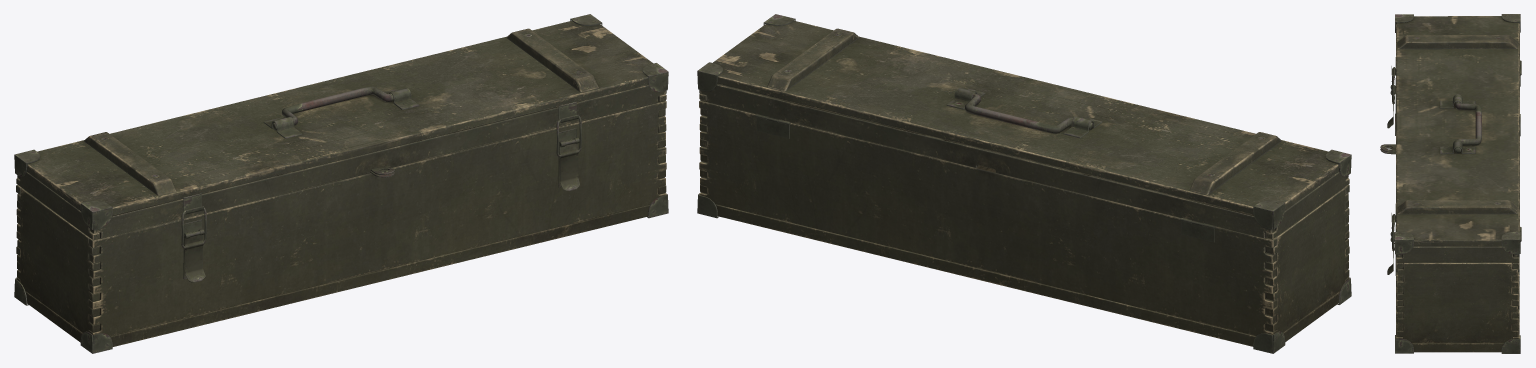
The model's file is military_crate.glb.
3 renders of one model, left to right at view 1: azimuth 30°, elevation 25°; view 2: azimuth 150°, elevation 25°; view 3: azimuth 270°, elevation 25°, orthographic. The views are drawn at different scales.
Parts seen in each view (by area): view 1: boxgun.001_low, boxgun.011_low, boxgun.013_low, boxgun.006_low, boxgun.003_low, boxgun.007_low, boxgun.008_low, boxgun.005_low, boxgun.012_low, boxgun.015_low, boxgun_low, boxgun.009_low; view 2: boxgun.001_low, boxgun.011_low, boxgun.013_low, boxgun.006_low, boxgun.003_low, boxgun.007_low, boxgun.008_low, boxgun.012_low, boxgun.014_low, boxgun_low, boxgun.009_low; view 3: boxgun.011_low, boxgun.006_low, boxgun.007_low, boxgun.012_low, boxgun.008_low, boxgun.003_low, boxgun.001_low, boxgun_low, boxgun.009_low, boxgun.013_low, boxgun.015_low, boxgun.010_low (+2 smaller).
Boxes of the visible parts, <box> form: boxgun.001_low: <box>16,100,666,336</box>; boxgun.011_low: <box>26,20,653,215</box>; boxgun.013_low: <box>17,85,666,238</box>; boxgun.006_low: <box>16,109,666,332</box>; boxgun.003_low: <box>25,205,649,346</box>; boxgun.007_low: <box>84,28,598,195</box>; boxgun.008_low: <box>14,14,668,353</box>; boxgun.005_low: <box>184,143,579,282</box>; boxgun.012_low: <box>16,94,666,240</box>; boxgun.015_low: <box>183,102,579,279</box>; boxgun_low: <box>272,86,393,130</box>; boxgun.009_low: <box>263,88,419,138</box>; boxgun.001_low: <box>699,100,1349,336</box>; boxgun.011_low: <box>713,20,1339,215</box>; boxgun.013_low: <box>699,84,1348,238</box>; boxgun.006_low: <box>699,108,1349,332</box>; boxgun.003_low: <box>715,204,1340,346</box>; boxgun.007_low: <box>767,28,1281,194</box>; boxgun.008_low: <box>697,14,1351,353</box>; boxgun.012_low: <box>699,94,1349,239</box>; boxgun.014_low: <box>755,114,1215,242</box>; boxgun_low: <box>965,93,1093,133</box>; boxgun.009_low: <box>946,87,1102,138</box>; boxgun.011_low: <box>1396,16,1519,246</box>; boxgun.006_low: <box>1396,262,1518,343</box>; boxgun.007_low: <box>1397,35,1518,214</box>; boxgun.012_low: <box>1396,246,1519,262</box>; boxgun.008_low: <box>1395,14,1520,353</box>; boxgun.003_low: <box>1403,263,1503,352</box>; boxgun.001_low: <box>1396,262,1519,338</box>; boxgun_low: <box>1455,101,1481,153</box>; boxgun.009_low: <box>1440,94,1475,154</box>; boxgun.013_low: <box>1396,30,1519,257</box>; boxgun.015_low: <box>1390,57,1395,275</box>; boxgun.010_low: <box>1391,67,1395,250</box>.
Bounding box in the file's own units: 106 × 26.43 × 27.98.
Materials: 1 (1 with a texture image).
